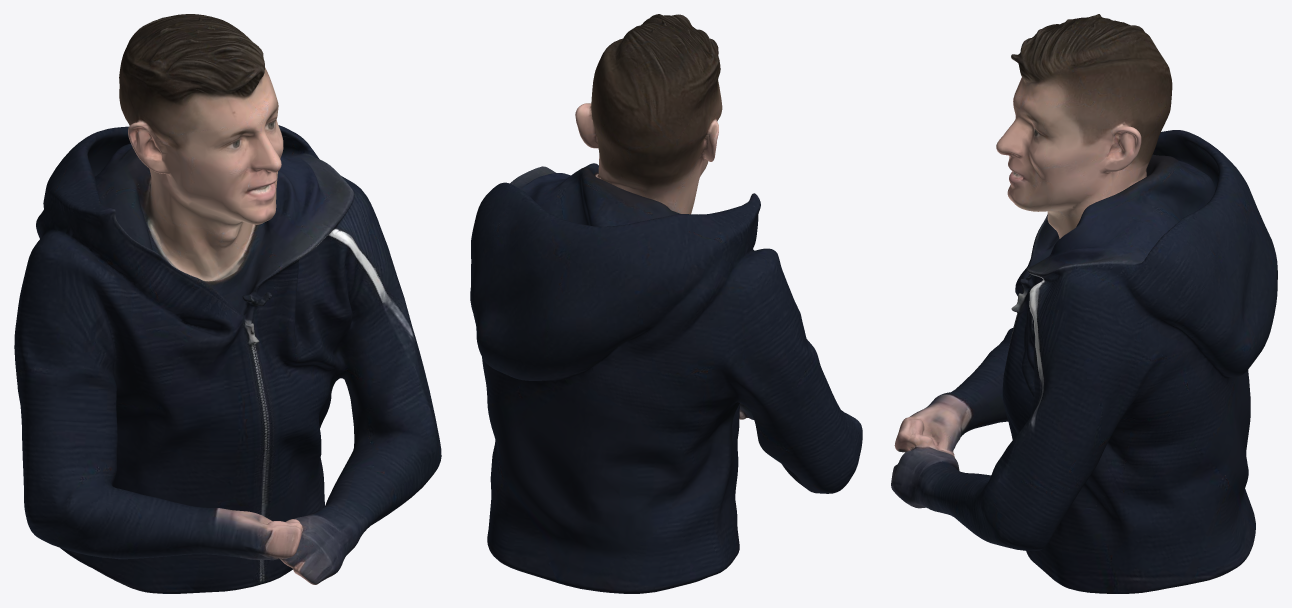
The picture shows the model from 3 angles, left to right: view 1: azimuth 30°, elevation 25°; view 2: azimuth 150°, elevation 25°; view 3: azimuth 270°, elevation 25°; orthographic projection. The views are drawn at different scales.
Size of the model in its own units: 1.42 by 1.89 by 1.29.
1 material, 1 textured.
